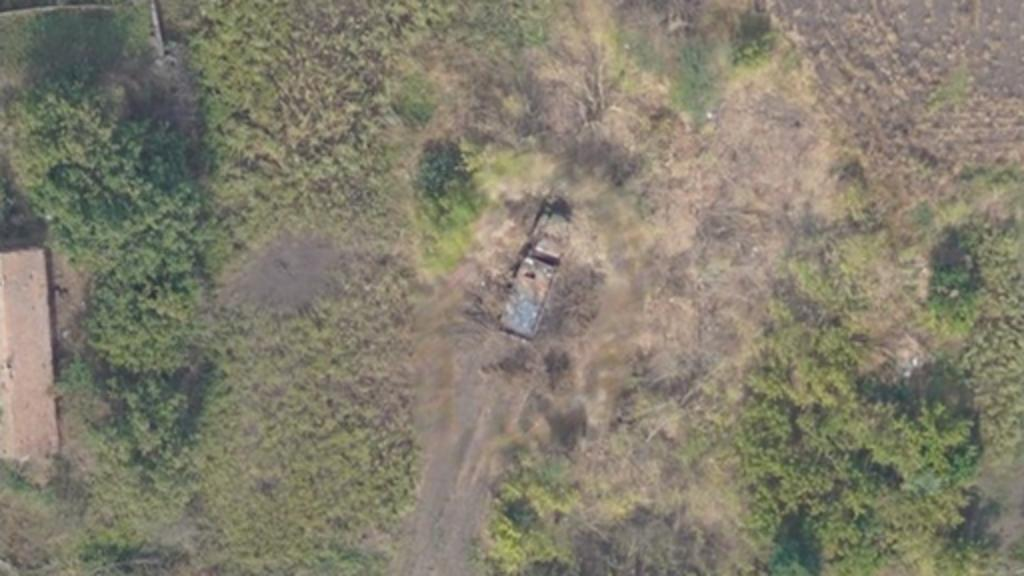TRUCK: (492, 198, 582, 338)
